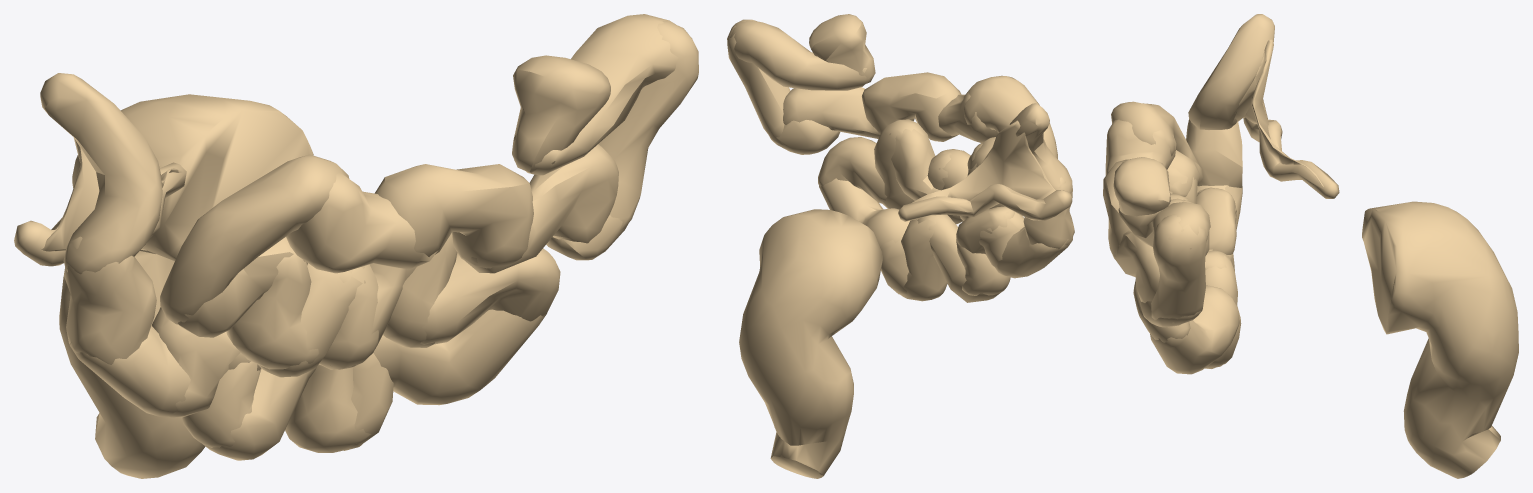
The model's file is digestif-bassin.lo.glb.
3 renders of one model, left to right at view 1: azimuth 30°, elevation 25°; view 2: azimuth 150°, elevation 25°; view 3: azimuth 270°, elevation 25°, orthographic. The views are drawn at different scales.
Parts seen in each view (by area): view 1: FJ2571, FJ2599, FJ2580, FJ2578, FJ2589, FJ2579, FJ2605, FJ2604, FJ2598, FJ2588, FJ2577, FJ2575 (+15 smaller); view 2: FJ2571, FJ2605, FJ2578, FJ3397, FJ2565, FJ2577, FJ2580, FJ2604, FJ2588, FJ2589, FJ2591, FJ2575 (+15 smaller); view 3: FJ2571, FJ2599, FJ2575, FJ2589, FJ2598, FJ2604, FJ2565, FJ2580, FJ2579, FJ3397, FJ2577, FJ2594 (+7 smaller).
Part boxes in pixels (box(x1,y1,x2,y2)): FJ2571: box(59, 94, 313, 478); FJ2599: box(40, 73, 162, 274); FJ2580: box(160, 154, 349, 324); FJ2578: box(374, 164, 533, 268); FJ2589: box(373, 309, 546, 405); FJ2579: box(286, 173, 437, 273); FJ2605: box(513, 14, 692, 175); FJ2604: box(512, 55, 610, 173); FJ2598: box(63, 236, 156, 364); FJ2588: box(420, 248, 560, 344); FJ2577: box(464, 144, 618, 273); FJ2575: box(599, 21, 698, 230); FJ2571: box(739, 209, 882, 478); FJ2605: box(730, 20, 870, 90); FJ2578: box(862, 72, 961, 141); FJ3397: box(912, 120, 1055, 202); FJ2565: box(898, 184, 1072, 221); FJ2577: box(783, 87, 879, 138); FJ2580: box(963, 75, 1057, 158); FJ2604: box(809, 14, 875, 83); FJ2588: box(818, 137, 886, 203); FJ2589: box(819, 178, 909, 247); FJ2591: box(900, 214, 949, 301); FJ2575: box(727, 19, 790, 145); FJ2571: box(1362, 201, 1518, 478); FJ2599: box(1188, 14, 1274, 129); FJ2575: box(1151, 214, 1206, 327); FJ2589: box(1150, 285, 1239, 374); FJ2598: box(1186, 119, 1242, 187); FJ2604: box(1113, 157, 1170, 216); FJ2565: box(1243, 99, 1339, 198); FJ2580: box(1111, 101, 1199, 165); FJ2579: box(1105, 119, 1176, 175); FJ3397: box(1234, 39, 1323, 186); FJ2577: box(1115, 230, 1159, 302); FJ2594: box(1196, 187, 1236, 254).
Bounding box in the file's own units: 0.1898 × 0.1658 × 0.1631.
